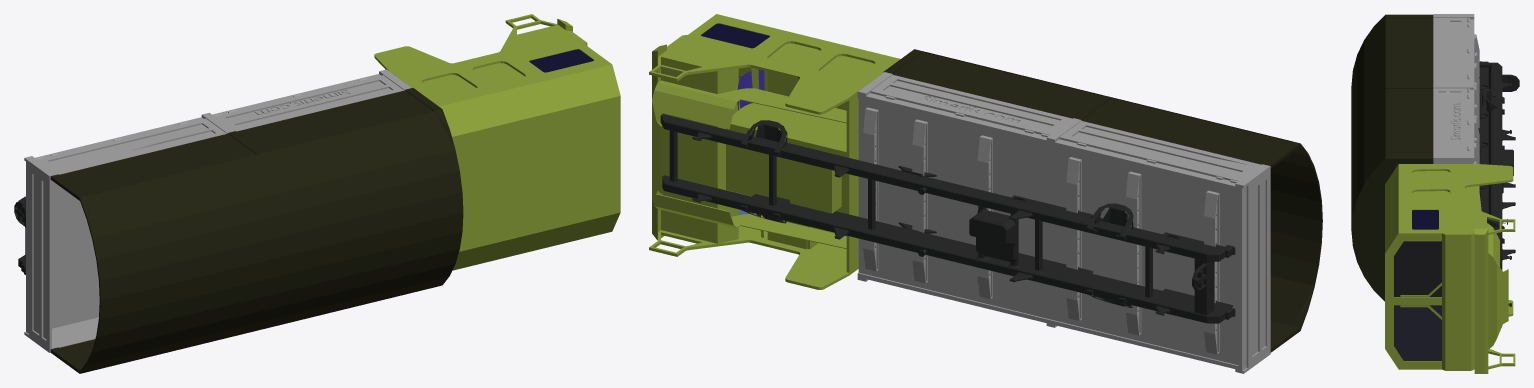
File: MAN_7t_chassis.obj
3 views of the same model, side by side, from view 1: azimuth 30°, elevation 25°; view 2: azimuth 150°, elevation 25°; view 3: azimuth 270°, elevation 25° (orthographic). The views are drawn at different scales.
Visible parts, largest first — view 1: SOLID8, SOLID2, SOLID7, SOLID3; view 2: SOLID7, SOLID2, SOLID10, SOLID8, SOLID3; view 3: SOLID2, SOLID8, SOLID7, SOLID10, SOLID6, SOLID5, SOLID3.
Boxes of the visible parts, box(x1,y1,x2,y2) form: SOLID8: box(50, 88, 463, 373); SOLID2: box(374, 14, 620, 270); SOLID7: box(24, 69, 411, 352); SOLID3: box(529, 49, 593, 72); SOLID7: box(857, 72, 1270, 373); SOLID2: box(649, 14, 900, 289); SOLID10: box(660, 114, 1235, 323); SOLID8: box(883, 49, 1322, 352); SOLID3: box(701, 23, 769, 48); SOLID2: box(1385, 164, 1515, 373); SOLID8: box(1351, 14, 1433, 301); SOLID7: box(1433, 14, 1479, 191); SOLID10: box(1476, 61, 1519, 306); SOLID6: box(1394, 305, 1441, 360); SOLID5: box(1394, 241, 1441, 296); SOLID3: box(1412, 210, 1438, 229).
Bounding box in the file's own units: 7.95 × 2.47 × 2.59.
